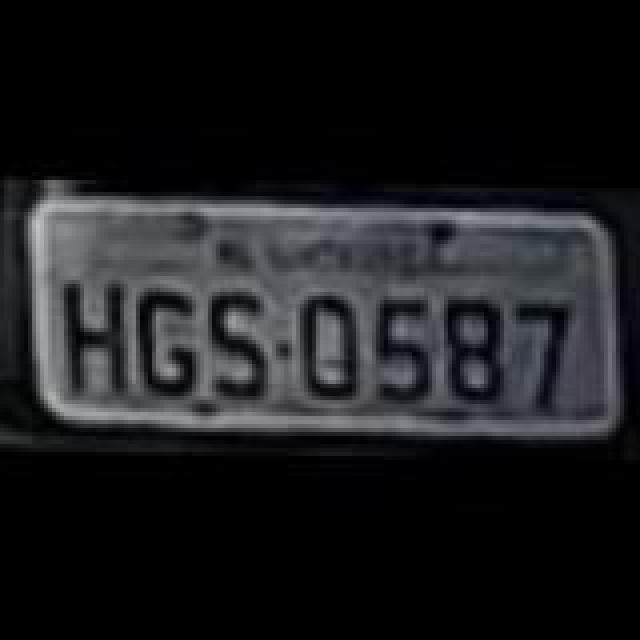5: (372, 286, 444, 410)
7: (510, 294, 578, 410)
8: (442, 290, 518, 414)
G: (136, 286, 216, 402)
H: (56, 270, 136, 402)
O: (296, 292, 368, 404)
S: (204, 284, 276, 404)
